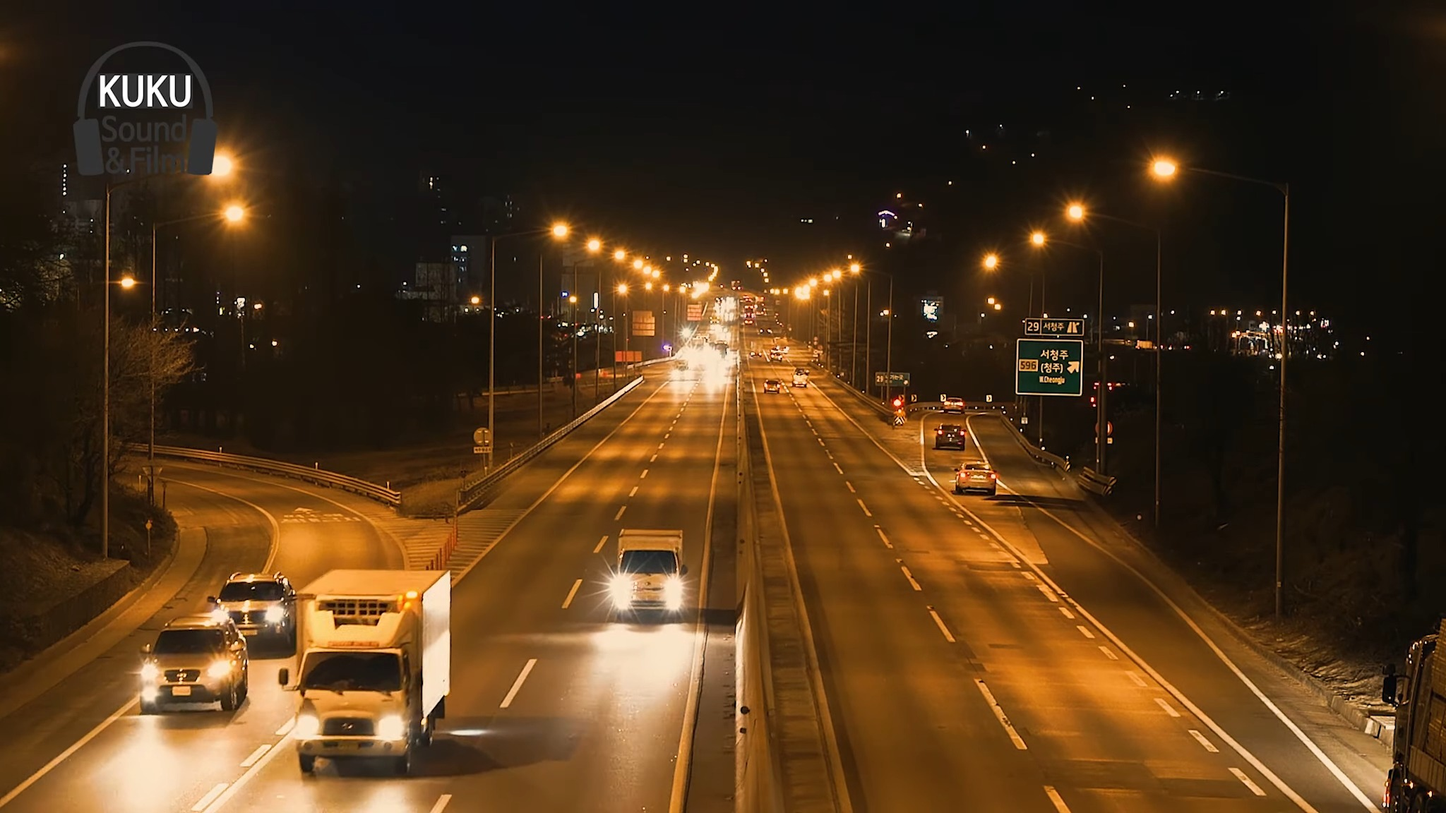car: (143, 632, 245, 718), (215, 577, 291, 658)
truck: (290, 572, 456, 762), (615, 528, 686, 625)
